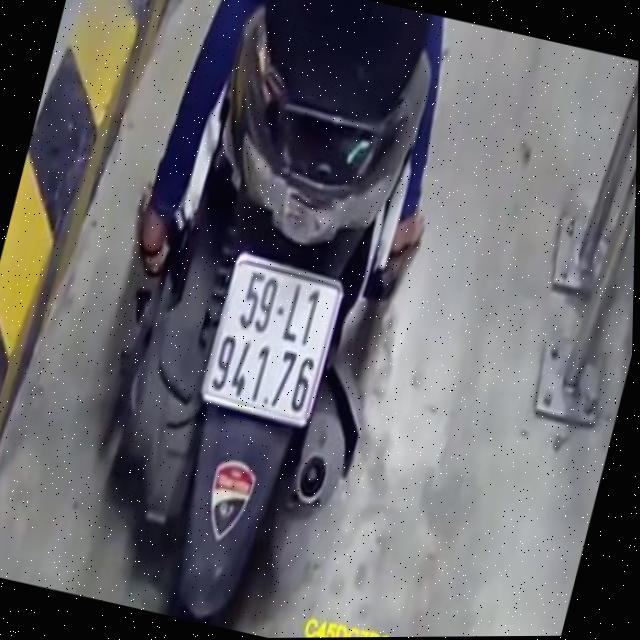motorcycle: (76, 12, 459, 639)
plate: (189, 242, 356, 439)
